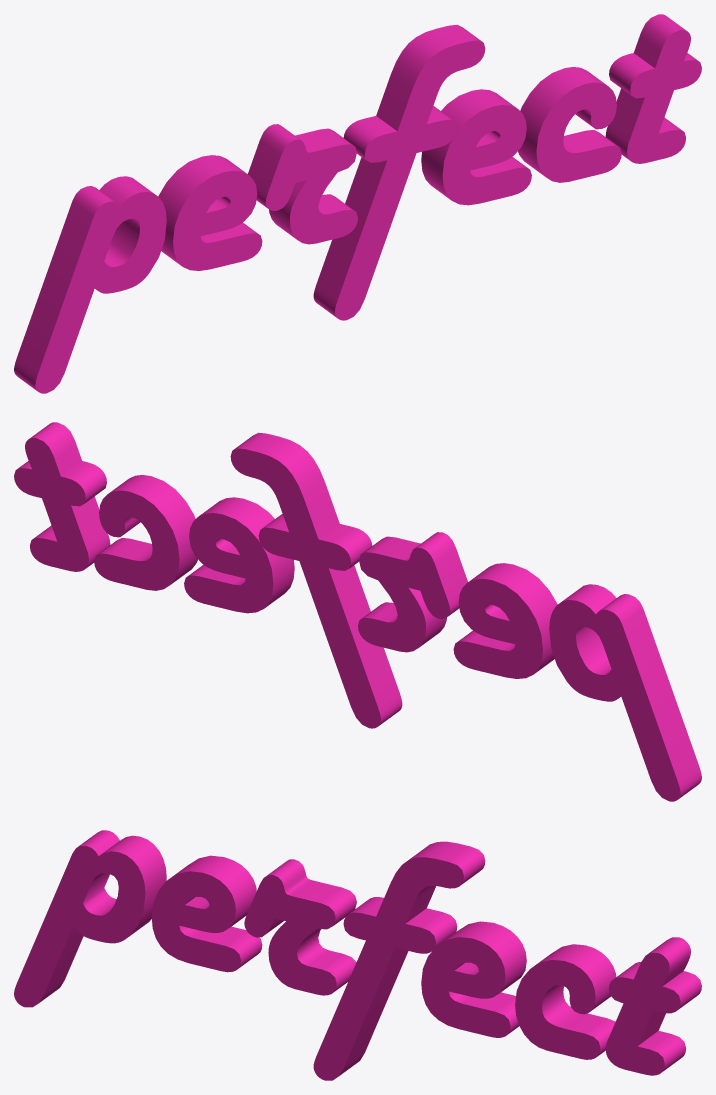
The model's file is perfect.fbx.
3 renders of one model, top to bottom at view 1: azimuth 30°, elevation 25°; view 2: azimuth 150°, elevation 25°; view 3: azimuth 330°, elevation 25°, orthographic.
Visible parts, largest first — view 1: node_id33; view 2: node_id33; view 3: node_id33.
Part boxes in pixels (bbox=[...]): node_id33: bbox=[14, 14, 701, 393]; node_id33: bbox=[14, 422, 701, 801]; node_id33: bbox=[14, 830, 701, 1080].
Size of the model in its own units: 0.2704 by 0.0964 by 0.015.
